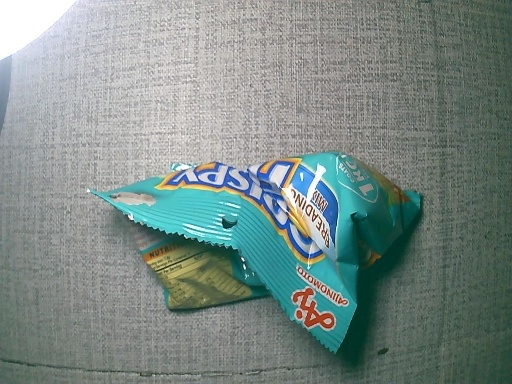plastic: (78, 154, 435, 356)
